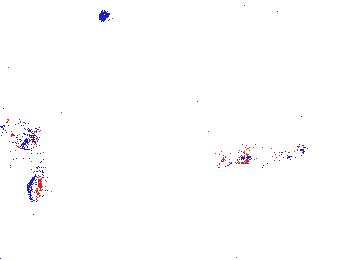red belly glassfish: (215, 149, 251, 169)
redtail glassfish: (221, 139, 310, 169), (1, 111, 44, 148)
